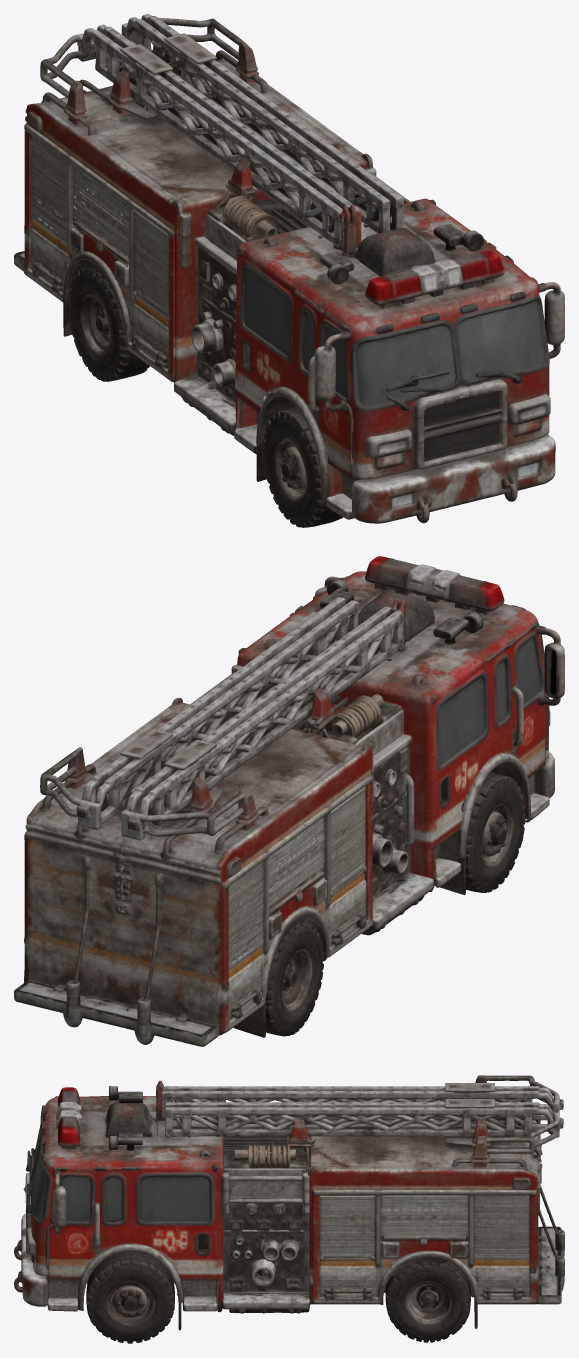
Rendered from FireTRUCK.glb.
The picture shows the model from 3 angles, top to bottom: view 1: azimuth 30°, elevation 25°; view 2: azimuth 150°, elevation 25°; view 3: azimuth 270°, elevation 25°; orthographic projection. The views are drawn at different scales.
Parts seen in each view (by area): view 1: world; view 2: world; view 3: world.
Part boxes in pixels (x1,y1,x2,y2): world: [14, 14, 564, 527]; world: [14, 556, 564, 1046]; world: [14, 1075, 564, 1343].
Size of the model in its own units: 0.3922 by 0.4325 by 1.
Materials: 1 (1 with a texture image).
